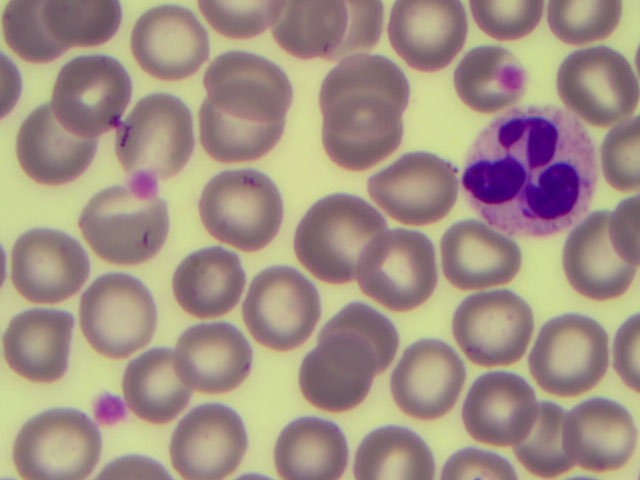Platelets: (90, 391, 128, 429), (125, 170, 160, 200)
RBC: (558, 42, 640, 123), (51, 53, 132, 134), (11, 105, 92, 186), (15, 221, 96, 302), (88, 192, 169, 273), (77, 271, 158, 352), (3, 306, 84, 387), (16, 399, 97, 480), (123, 341, 204, 422), (165, 317, 246, 398), (170, 242, 251, 323), (201, 169, 282, 250), (203, 101, 284, 182), (208, 43, 289, 124), (134, 4, 215, 85), (117, 82, 198, 163), (327, 45, 408, 126), (317, 100, 398, 181), (373, 147, 454, 228), (301, 197, 382, 278), (250, 267, 331, 348), (325, 290, 406, 371), (287, 343, 368, 424), (272, 399, 353, 480), (169, 399, 250, 480), (390, 335, 471, 416), (360, 234, 441, 315), (444, 221, 525, 302), (456, 282, 537, 363), (456, 368, 537, 449), (524, 321, 605, 402), (555, 217, 636, 298), (446, 31, 527, 112), (385, 1, 466, 81), (516, 402, 595, 476), (351, 424, 438, 480), (266, 1, 353, 55), (571, 399, 640, 467), (1, 1, 87, 55)
WBC: (465, 100, 596, 233)
